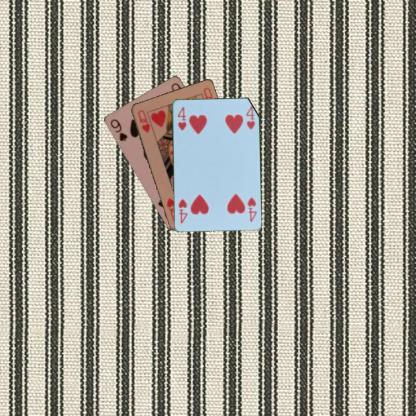4h: (244, 195, 258, 222), (175, 104, 187, 132)
9s: (107, 116, 128, 143)
Qh: (134, 107, 152, 134)
